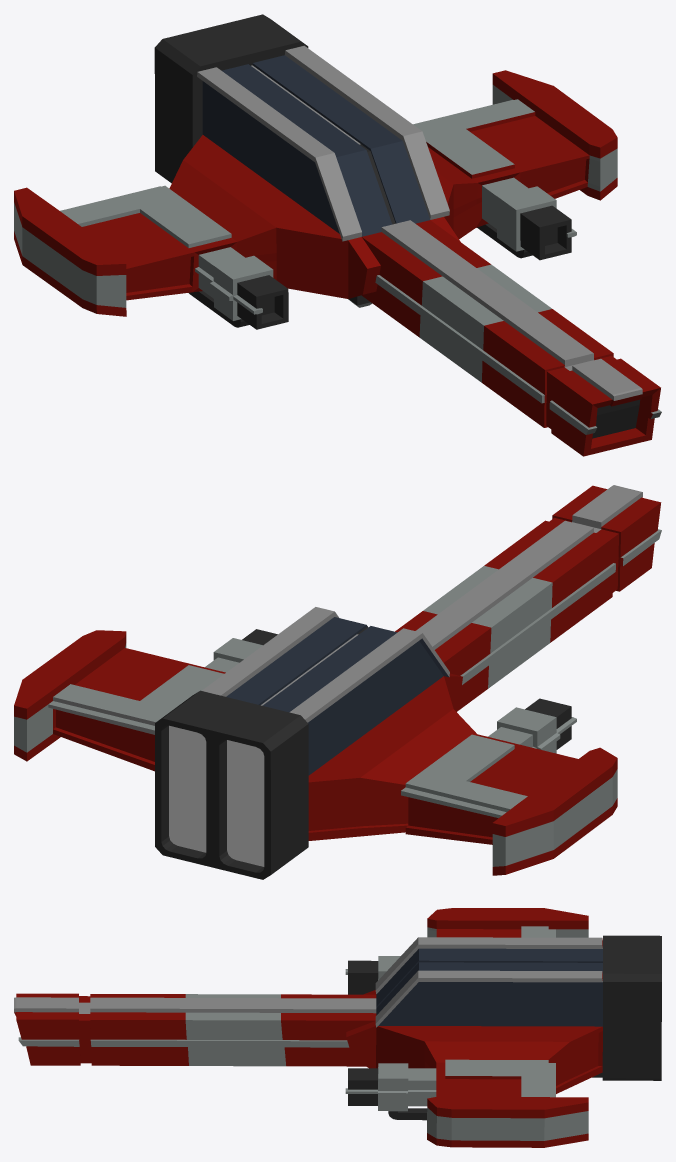
The model's file is starShip.fbx.
3 renders of one model, top to bottom at view 1: azimuth 30°, elevation 25°; view 2: azimuth 150°, elevation 25°; view 3: azimuth 270°, elevation 25°, orthographic. The views are drawn at different scales.
Parts seen in each view (by area): view 1: Cube; view 2: Cube; view 3: Cube.
Boxes of the visible parts, x1,y1,x2,y2 form: Cube: (14,14,661,456); Cube: (14,485,661,879); Cube: (14,908,661,1147).
Bounding box in the file's own units: 1724 × 452 × 2335.
